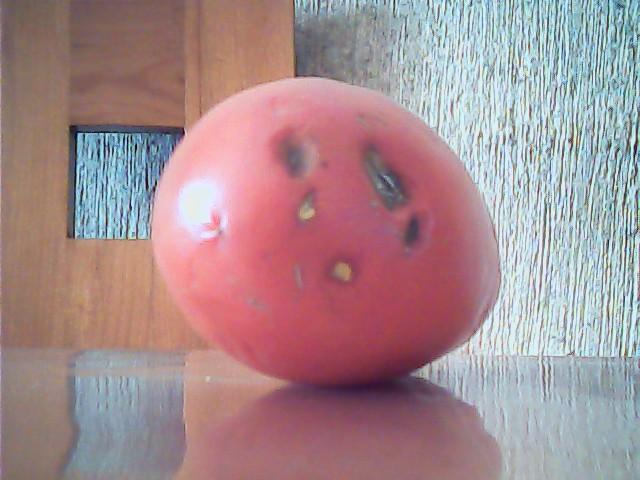defectuoso: (149, 78, 501, 392)
